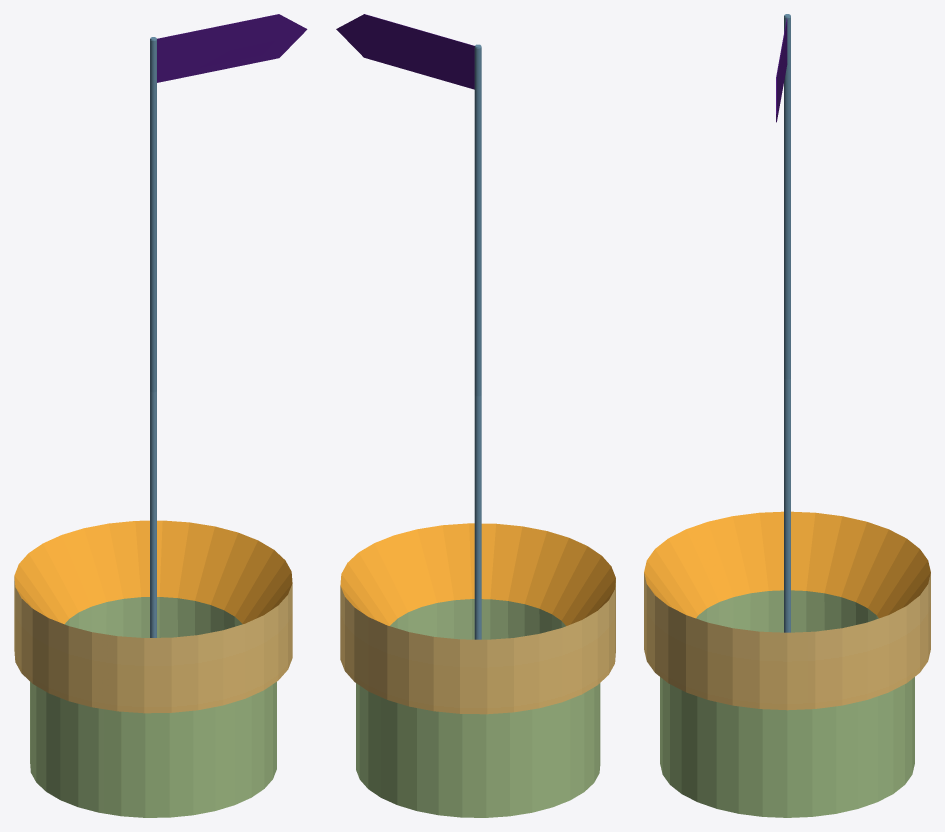
Rendered from Endpoint.obj.
The picture shows the model from 3 angles, left to right: view 1: azimuth 30°, elevation 25°; view 2: azimuth 150°, elevation 25°; view 3: azimuth 270°, elevation 25°; orthographic projection. The views are drawn at different scales.
Parts seen in each view (by area): view 1: Cylinder.006_Cylinder.001; view 2: Cylinder.006_Cylinder.001; view 3: Cylinder.006_Cylinder.001.
Part boxes in pixels (x1,y1,x2,y2): Cylinder.006_Cylinder.001: [14, 14, 307, 817]; Cylinder.006_Cylinder.001: [336, 14, 615, 817]; Cylinder.006_Cylinder.001: [644, 14, 930, 817].
Size of the model in its own units: 2.23 by 5.76 by 2.
Materials: 1 (1 with a texture image).
